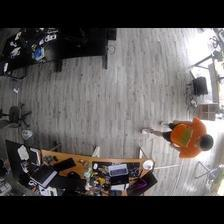normal: (141, 118, 213, 159)
